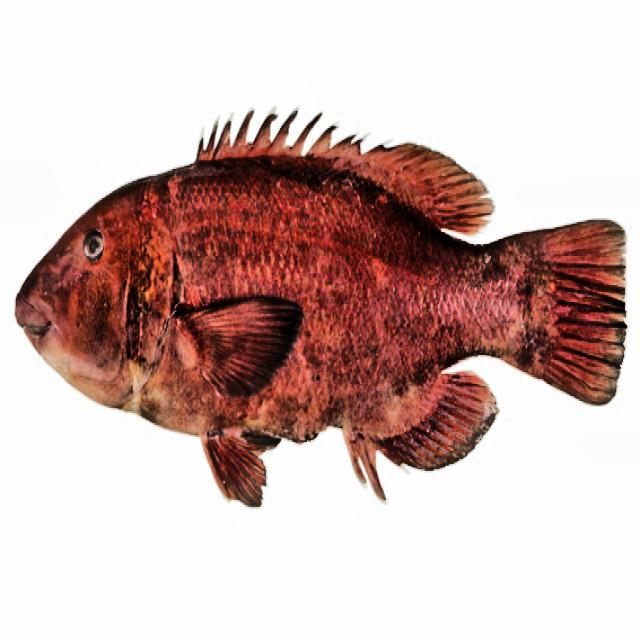fish: (14, 110, 622, 502)
